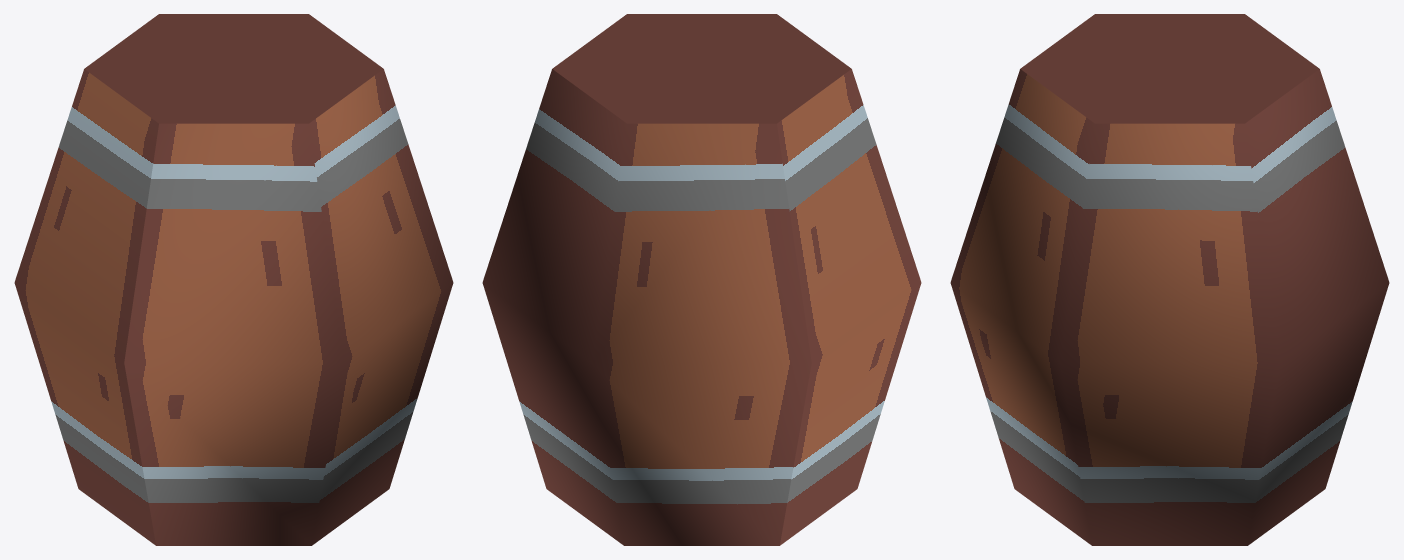
File: barrel.gltf
3 views of the same model, side by side, from view 1: azimuth 30°, elevation 25°; view 2: azimuth 150°, elevation 25°; view 3: azimuth 270°, elevation 25° (orthographic).
Visible parts, largest first — view 1: Cylinder; view 2: Cylinder; view 3: Cylinder.
Part boxes in pixels (x1=…): Cylinder: x1=14, y1=14, x2=453, y2=545; Cylinder: x1=482, y1=14, x2=921, y2=545; Cylinder: x1=950, y1=14, x2=1389, y2=545.
Size of the model in its own units: 2.45 by 2.98 by 2.82.
Materials: 1 (1 with a texture image).
